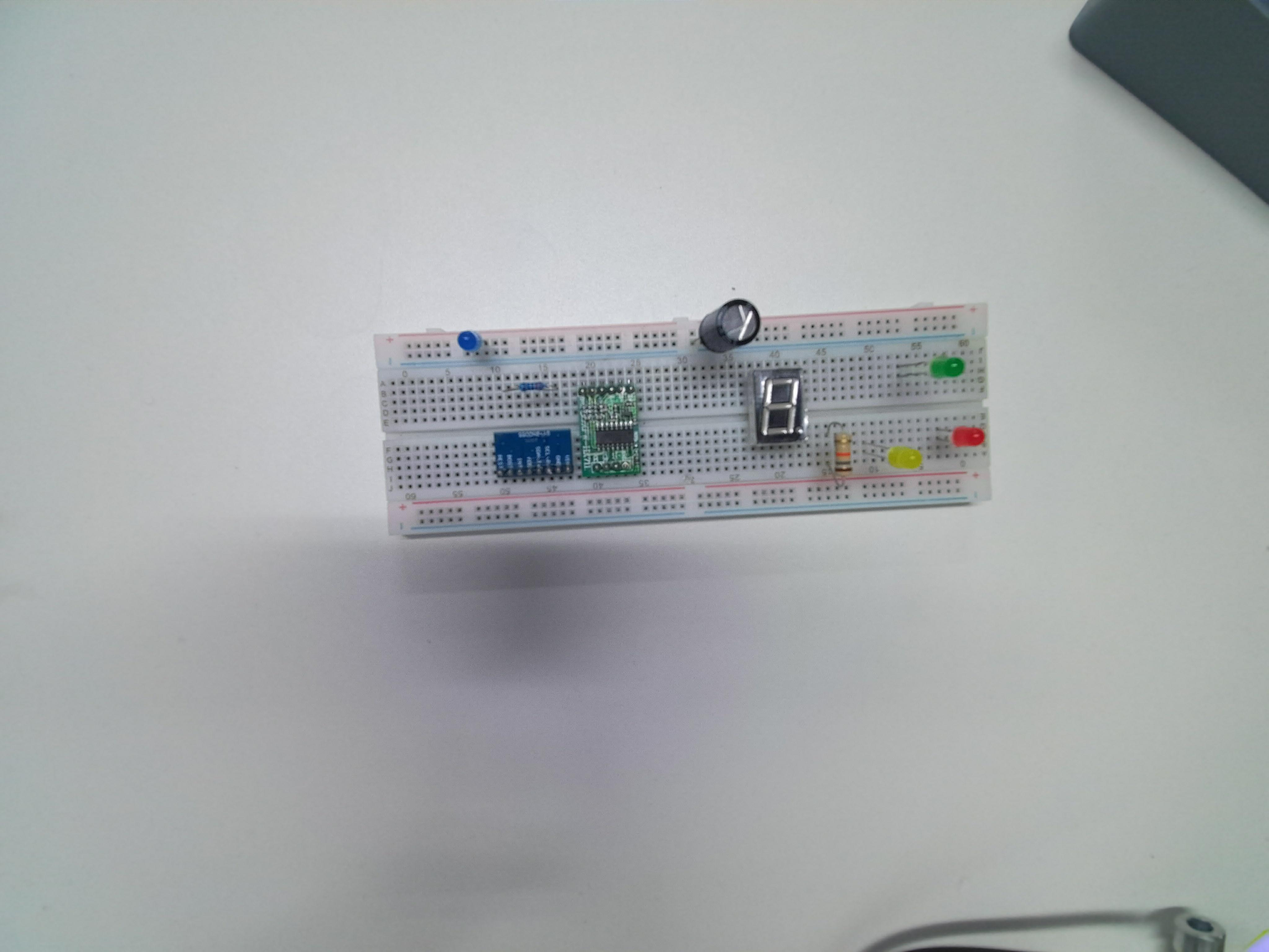base: (373, 296, 996, 538)
blue-board: (492, 427, 574, 481)
blue-led: (459, 331, 482, 355)
capacitor: (698, 297, 760, 356)
digit-board: (750, 367, 808, 449)
green-board: (576, 380, 644, 480)
green-led: (929, 356, 966, 380)
red-led: (952, 425, 986, 446)
resistor-big: (833, 433, 852, 477)
resistor-small: (517, 381, 548, 391)
yellow-led: (887, 445, 922, 470)
